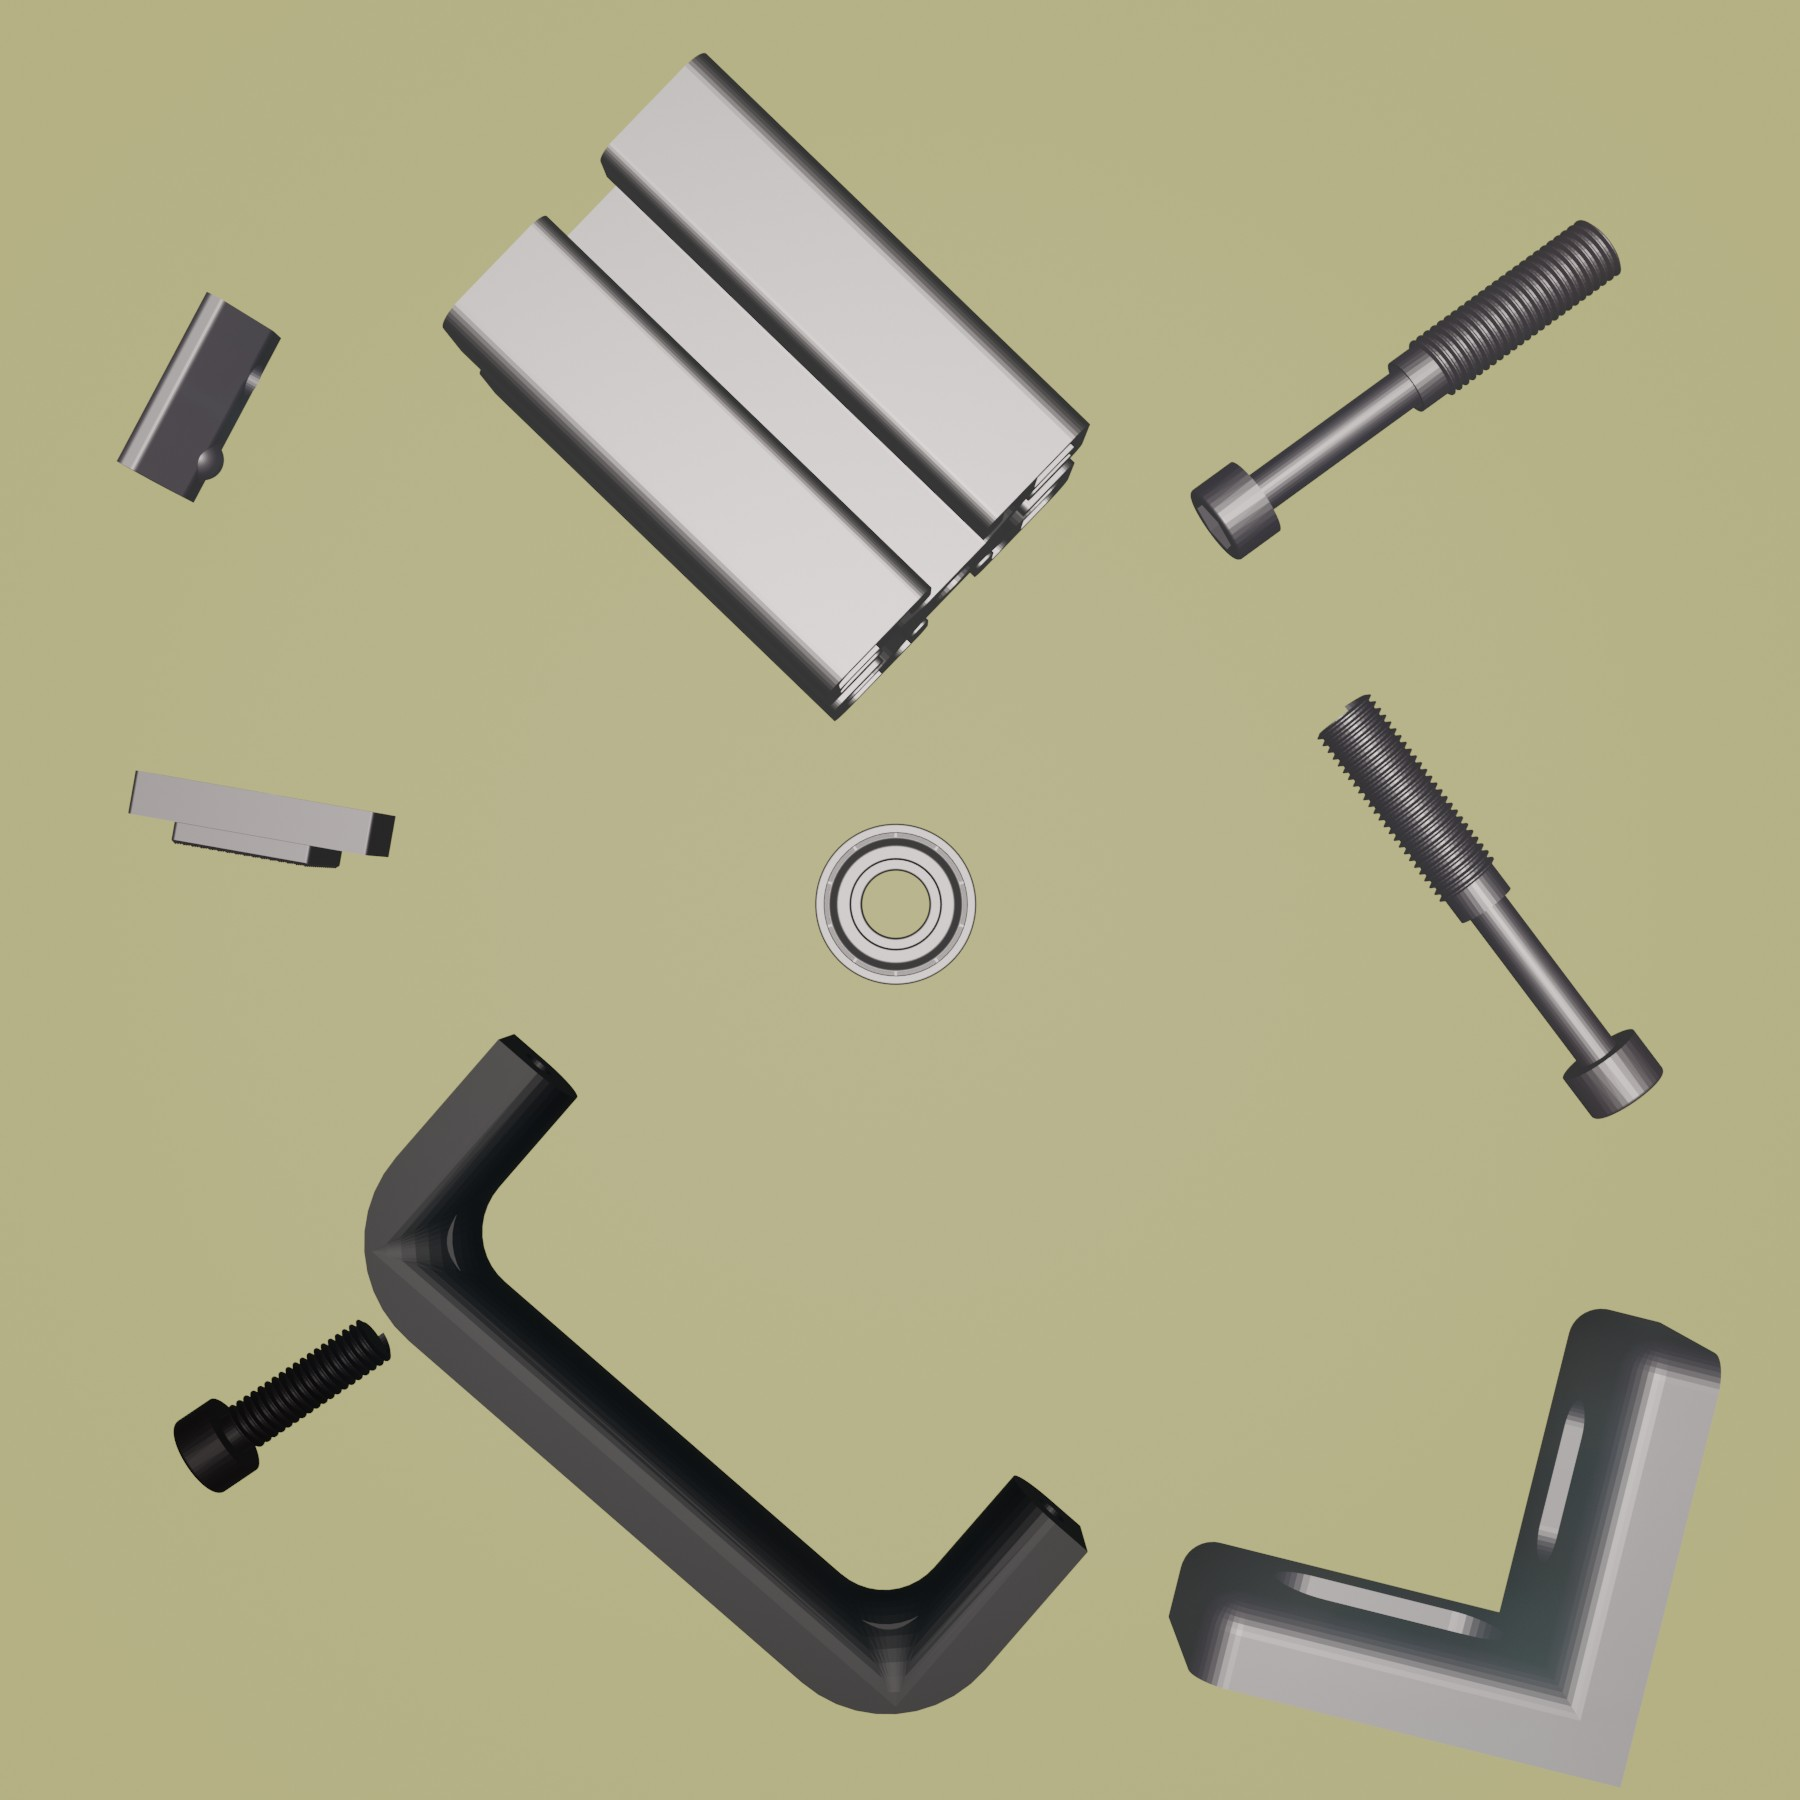Aluminium Extension: (440, 49, 1091, 724)
Ball Bearing: (813, 823, 979, 986)
Multiwinkel: (1165, 1307, 1723, 1792)
Pull Handle: (361, 1030, 1090, 1716)
Shoulder Socket Head Cap Screw: (1188, 218, 1625, 562), (1315, 692, 1665, 1119)
Socket Head Cap Screw: (170, 1319, 392, 1497)
T Nut Square: (120, 766, 401, 872)
T Spring Nut: (112, 292, 282, 508)
